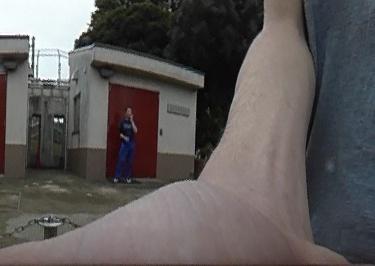person: (110, 106, 136, 182)
